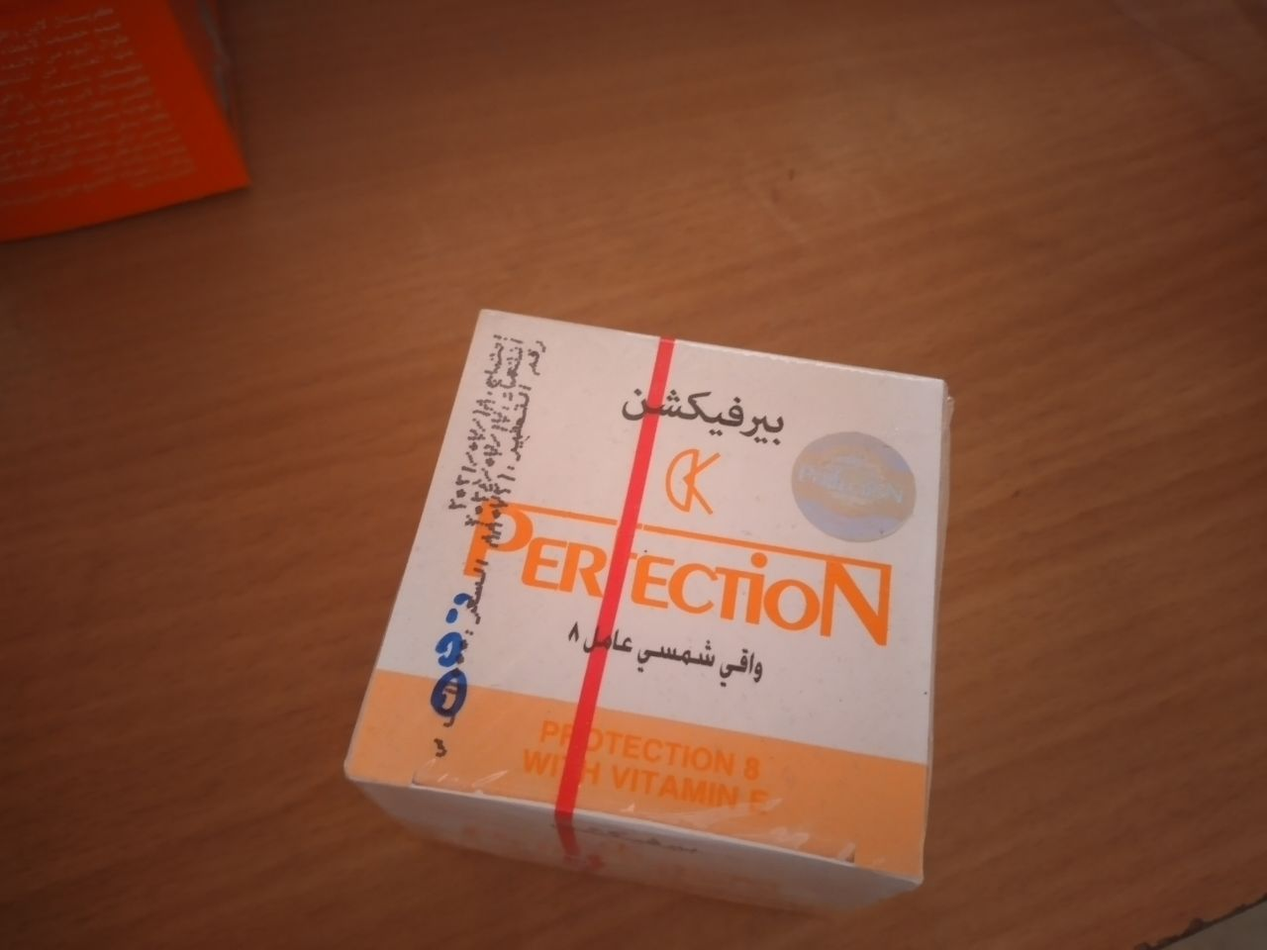Medicine: (341, 297, 955, 905)
